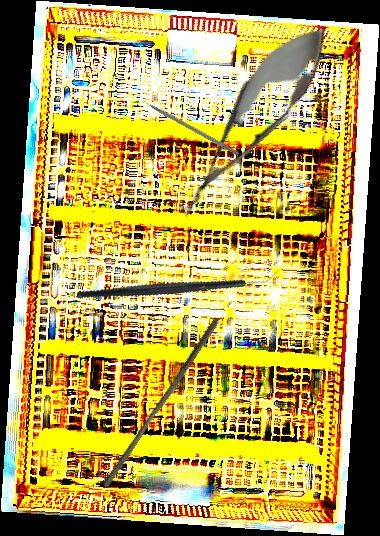Chopper: (75, 216, 281, 351)
Hook Surgical: (136, 95, 240, 156)
Micro Scissor: (159, 8, 346, 232)
Pusher: (101, 312, 221, 493)
